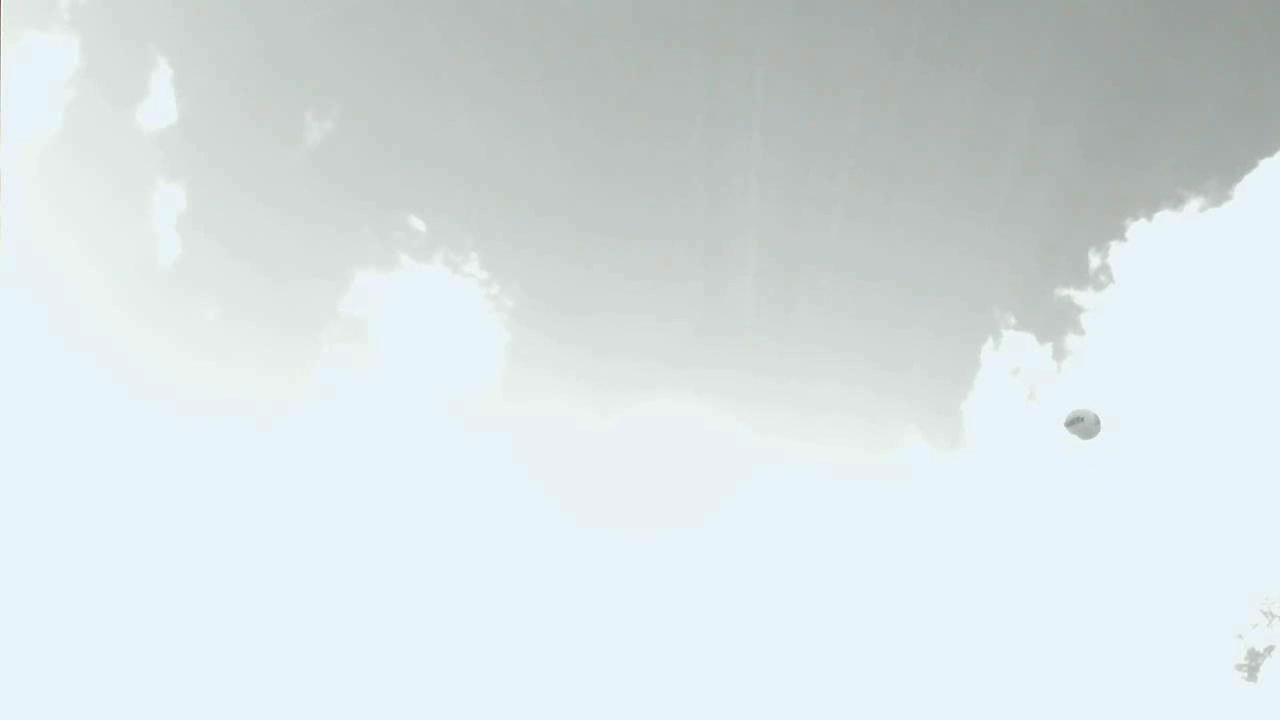Football-Spotter: (1064, 409, 1100, 439)
